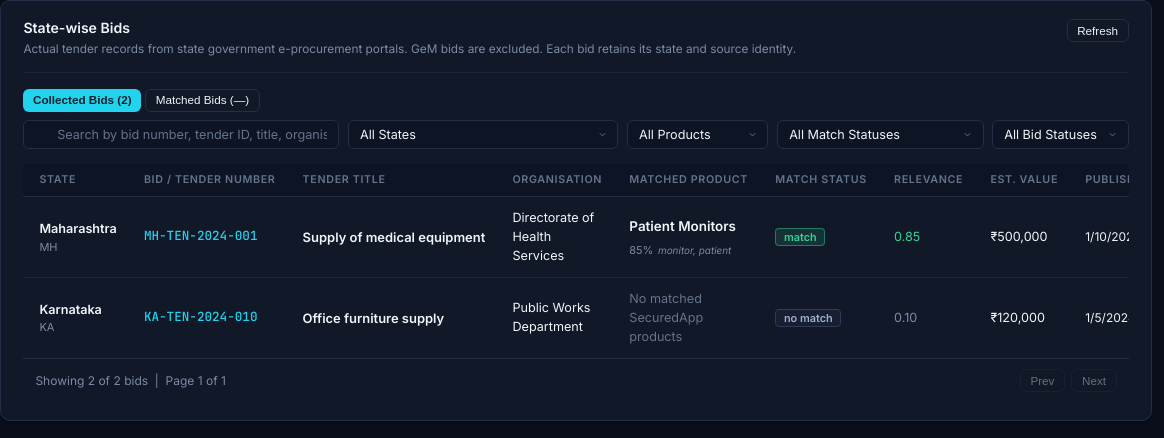
Test case: StateWiseBidsView › Matched tab shows only bids with at least one product match
Expected: the text "Supply of medical equipment" is shown, [303, 228, 485, 247]
Click the button "Matched Bids (—)".
click(202, 100)  # box [145, 89, 260, 112]
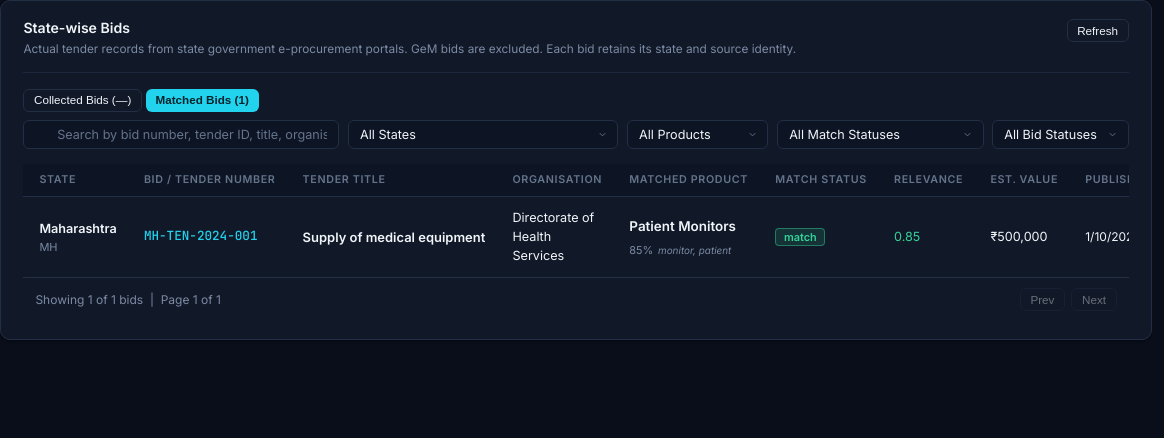
Expected: the text "Supply of medical equipment" is shown, [303, 228, 485, 247]
Expected: the text "Office furniture supply" is gone
